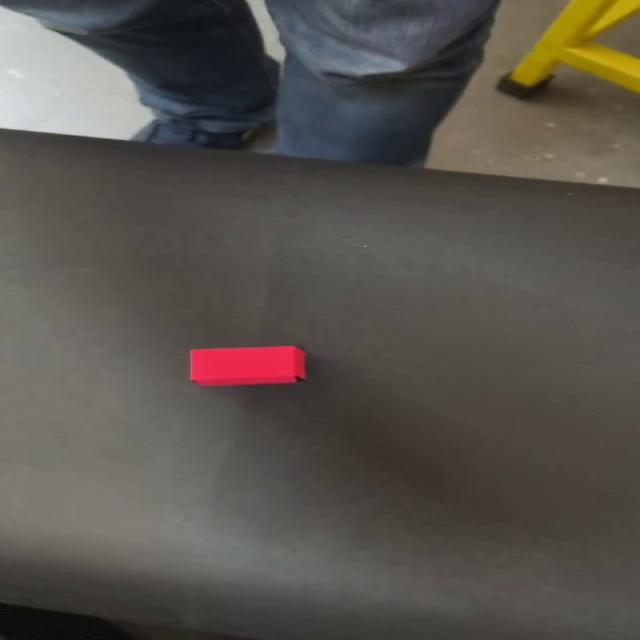red block: (188, 344, 307, 386)
